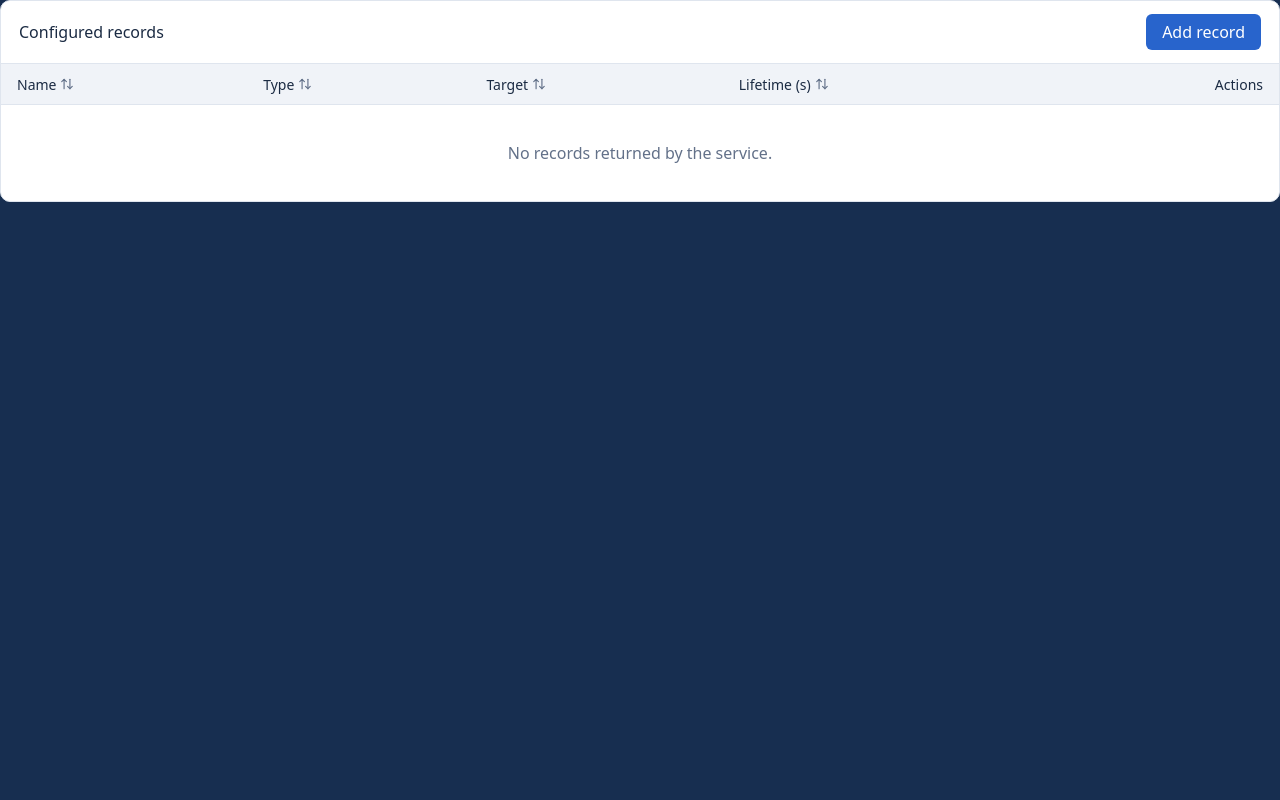
Test case: offers only supported local records with a five-minute lifetime and reverse lookups off
The image size is (1280, 800).
Click the button "Add record": (1204, 32) [1146, 14, 1261, 50]
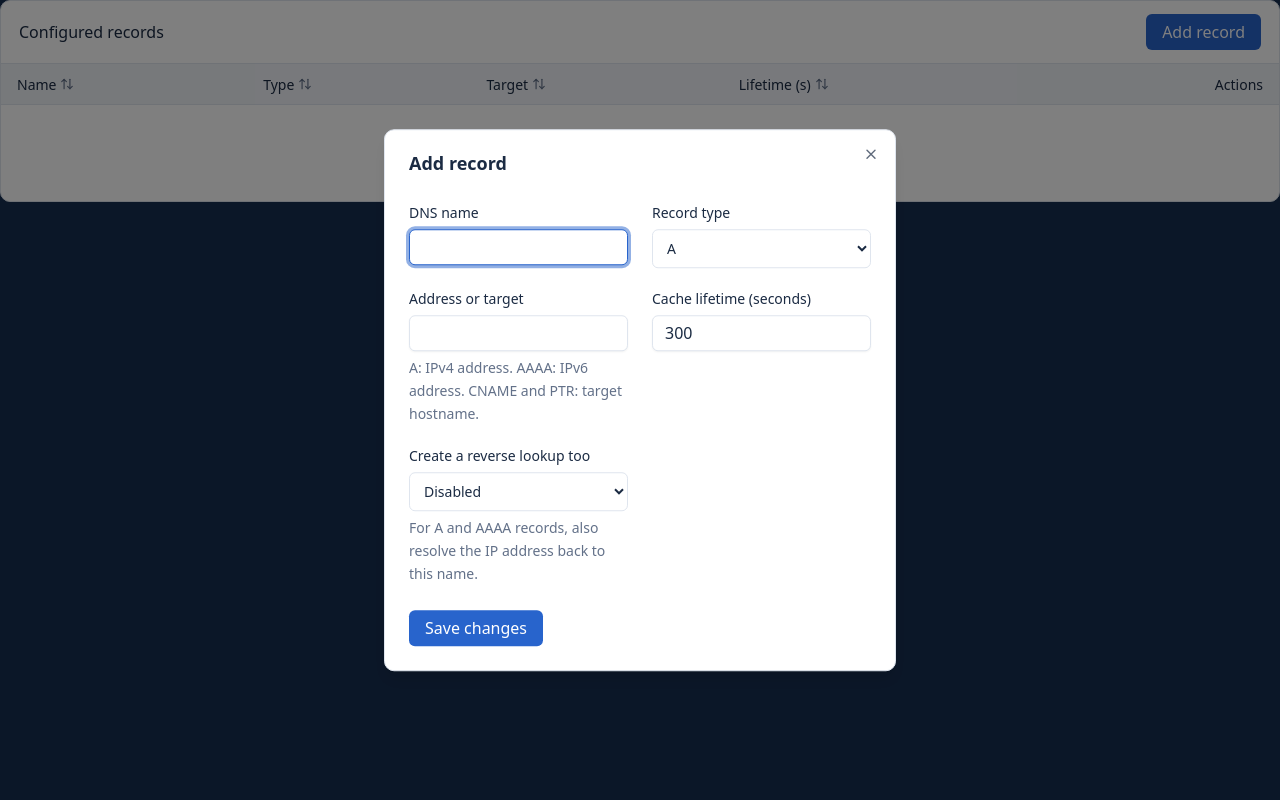
Expected: the number field labelled "Cache lifetime (seconds)" holds "300", [652, 315, 871, 351]
Expected: the dropdown labelled "Create a reverse lookup too" shows "Disabled", [409, 472, 628, 512]
